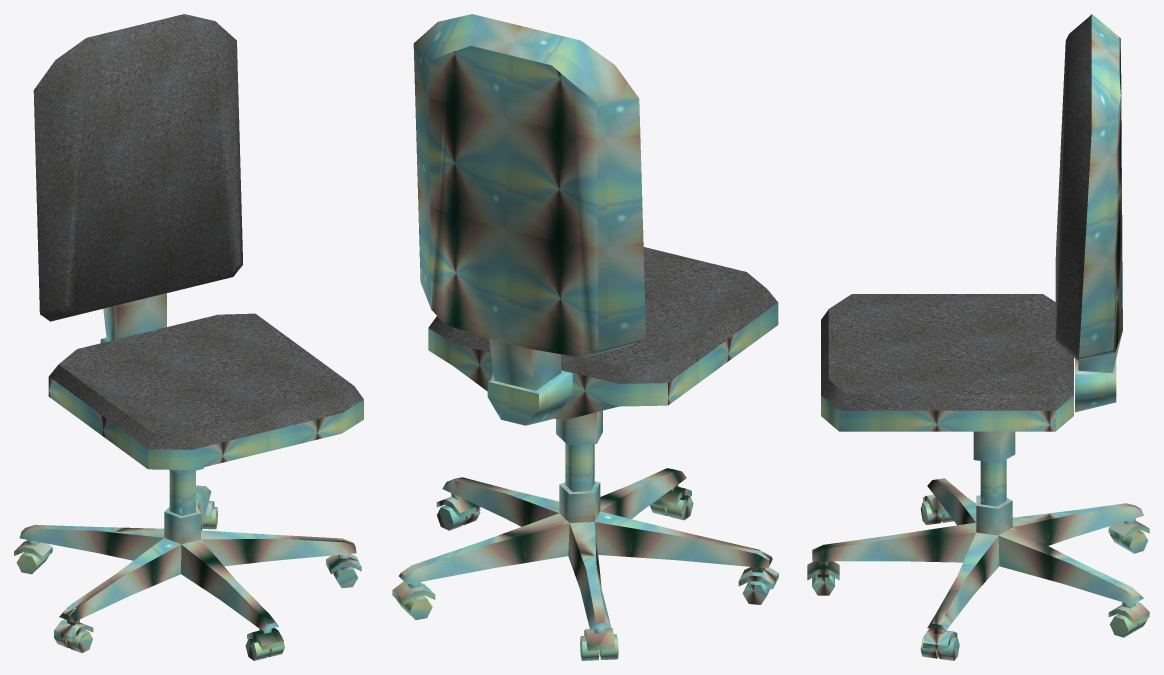
File: chair_5.fbx
3 renders of one model, left to right at view 1: azimuth 30°, elevation 25°; view 2: azimuth 150°, elevation 25°; view 3: azimuth 270°, elevation 25°, orthographic. The views are drawn at different scales.
Parts seen in each view (by area): view 1: chair_5; view 2: chair_5; view 3: chair_5.
Part boxes in pixels (<box>): chair_5: <box>14,14,363,660</box>; chair_5: <box>392,14,778,660</box>; chair_5: <box>807,14,1149,660</box>.
Bounding box in the file's own units: 1.3 × 2.19 × 1.24.
